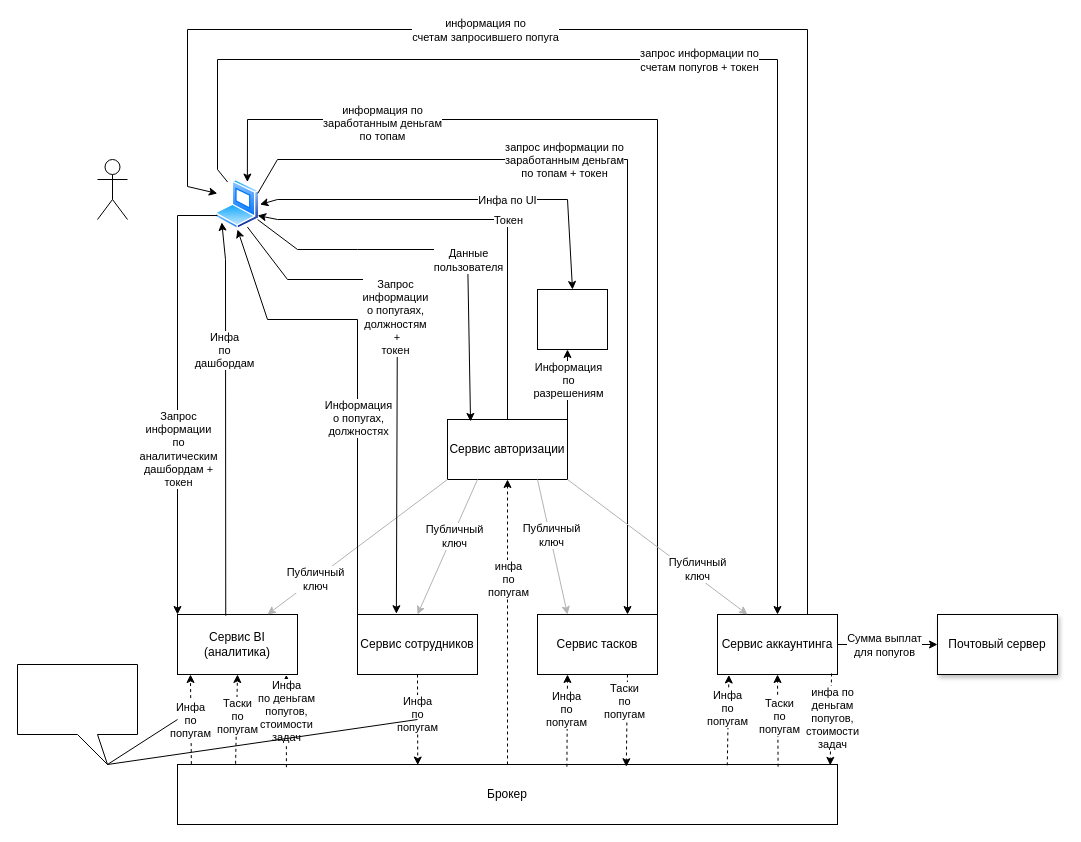
Image size: 1081x842. Some labels were removed from this diagram. Each missing label, with the centre of its shape:
"Actor" belongs at pixel 112 189.
"В том числе, элементы иерархии - подразделения, начальники" belongs at pixel 77 714.
"Фронт" belongs at pixel 572 319.
